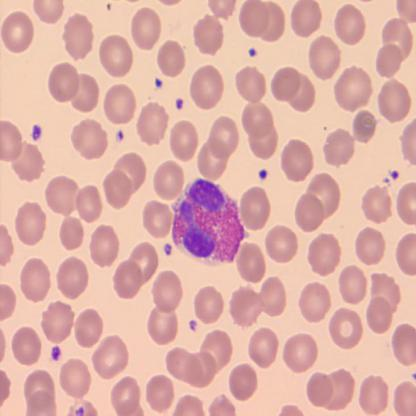Eosinophil: (174, 176, 246, 260)
